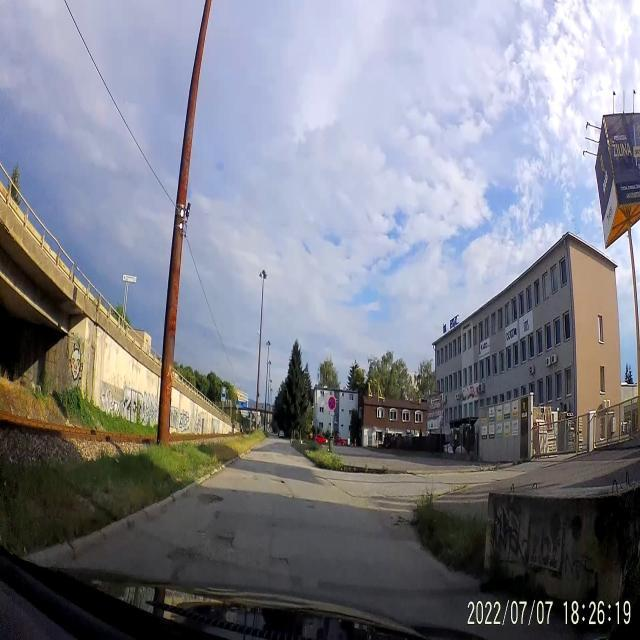Pothole: (192, 482, 222, 512), (208, 526, 236, 556), (266, 546, 292, 568), (392, 511, 410, 528)
